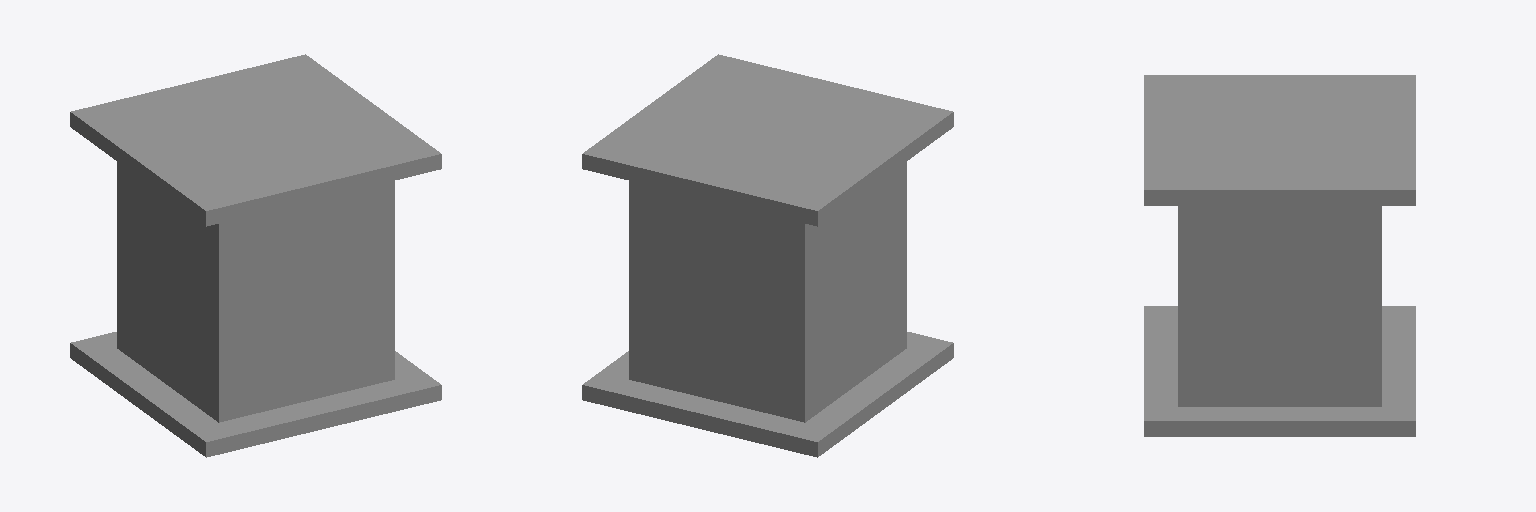
File: tank.obj
3 views of the same model, side by side, from view 1: azimuth 30°, elevation 25°; view 2: azimuth 150°, elevation 25°; view 3: azimuth 270°, elevation 25° (orthographic).
Parts seen in each view (by area): view 1: Cube; view 2: Cube; view 3: Cube.
Part boxes in pixels (x1,y1,x2,y2): Cube: (70, 54, 441, 457); Cube: (582, 54, 953, 457); Cube: (1144, 75, 1415, 436).
Bounding box in the file's own units: 1 × 1 × 1.